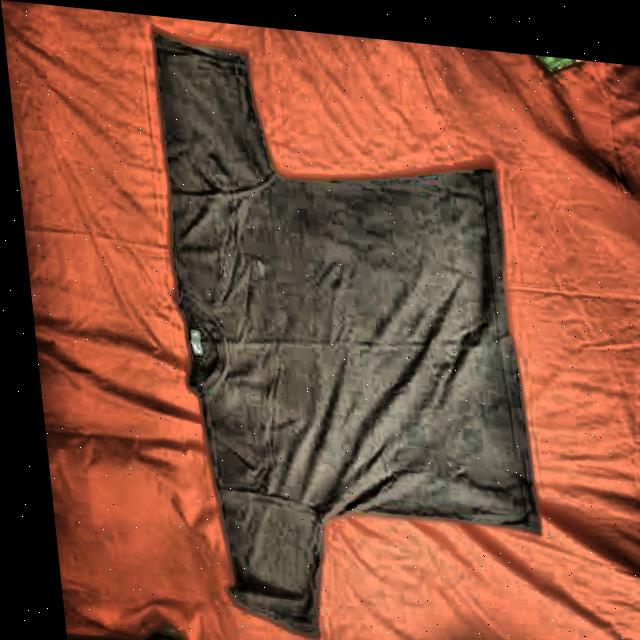clothes: (146, 22, 559, 640)
